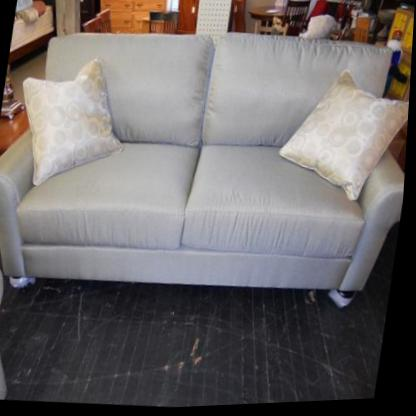Sofa: (0, 12, 415, 325)
